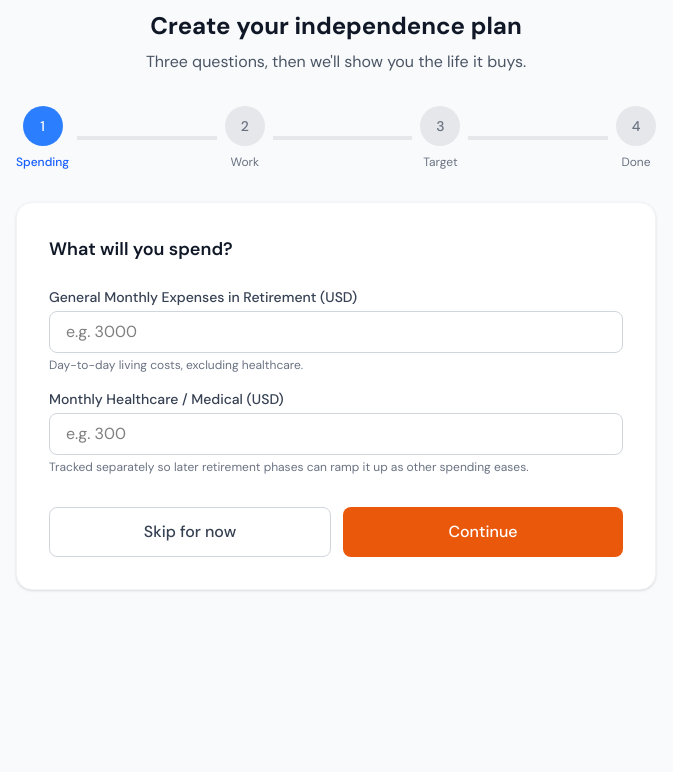
/independence/setup — guided plan wizard › stops on the Work step when the work-scenario write is refused
Click the button "Continue" at (483, 532), box [343,507,623,557]
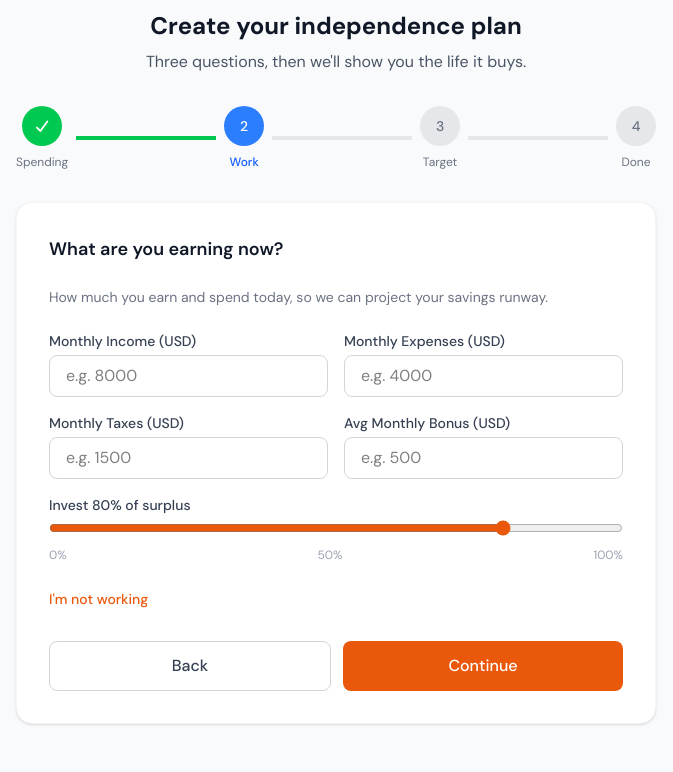
Now the number field labelled "Monthly Income (USD)" is shown, box [49,355,328,397]
Click the button "Continue" at (483, 666), box [343,641,623,691]
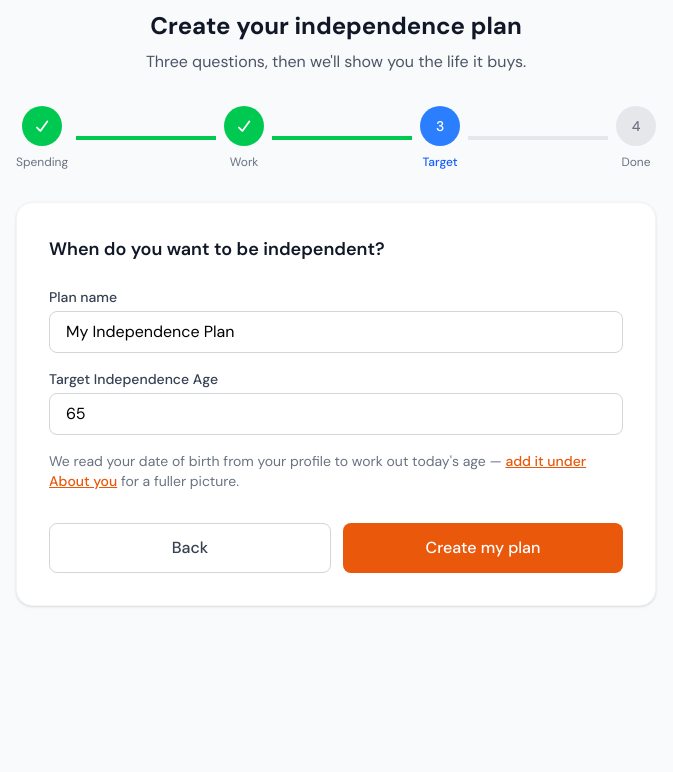
Now the number field labelled "Target Independence Age" is shown, box [49,393,623,435]
Click the button "Create my plan" at (483, 548), box [343,523,623,573]
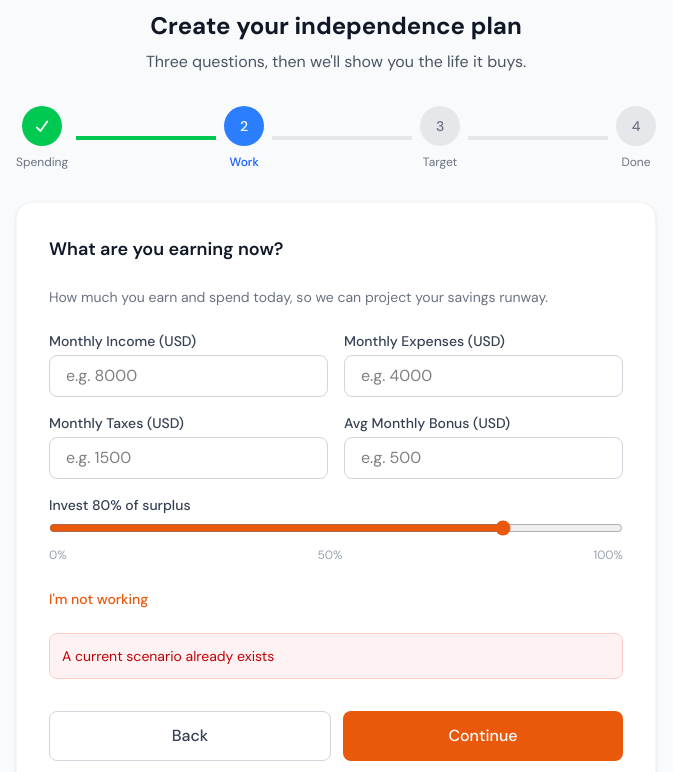
Now the text "A current scenario already exists" is shown, box [49,633,623,679]
Now the number field labelled "Monthly Income (USD)" is shown, box [49,355,328,397]
